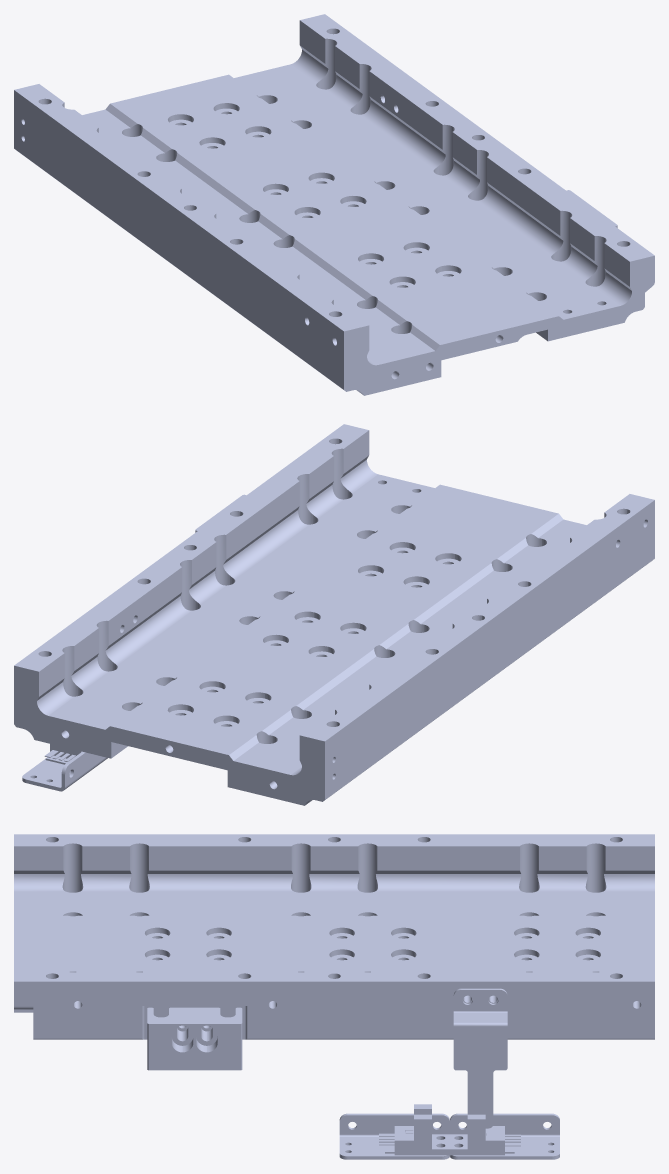
The model's file is MTA-12.glb.
The picture shows the model from 3 angles, top to bottom: view 1: azimuth 30°, elevation 25°; view 2: azimuth 150°, elevation 25°; view 3: azimuth 270°, elevation 25°; orthographic projection. The views are drawn at different scales.
Visible parts, largest first — view 1: 134X-12-MTA12-23091201_node; view 2: 134X-12-MTA12-23091201_node, 134X-30-1开关安装支架V1.0_node; view 3: 134X-12-MTA12-23091201_node, 134X-101-5读数头连接块V1.0_node, 134X-31-1 外置遮挡钣金V1.0_node, 134X-30-1开关安装支架V1.0_node_1, 134X-30-1开关安装支架V1.0_node, SH-SL674开关_node, SH-SL674开关_node_1.
Boxes of the visible parts, bbox=[...] form: 134X-12-MTA12-23091201_node: bbox=[14, 14, 654, 395]; 134X-12-MTA12-23091201_node: bbox=[14, 424, 654, 805]; 134X-30-1开关安装支架V1.0_node: bbox=[22, 751, 107, 791]; 134X-12-MTA12-23091201_node: bbox=[14, 834, 654, 1039]; 134X-101-5读数头连接块V1.0_node: bbox=[147, 1007, 242, 1070]; 134X-31-1 外置遮挡钣金V1.0_node: bbox=[453, 988, 507, 1128]; 134X-30-1开关安装支架V1.0_node_1: bbox=[339, 1113, 449, 1159]; 134X-30-1开关安装支架V1.0_node: bbox=[450, 1113, 559, 1159]; SH-SL674开关_node: bbox=[379, 1104, 449, 1155]; SH-SL674开关_node_1: bbox=[450, 1114, 520, 1155].
Size of the model in its own units: 155 by 67.8 by 250.
